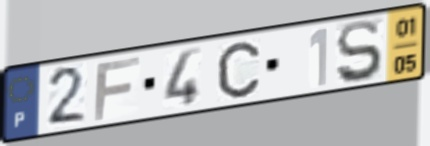1: (308, 26, 330, 88)
2: (44, 64, 90, 132)
4: (161, 46, 204, 109)
C: (215, 39, 263, 100)
F: (91, 54, 143, 124)
S: (334, 18, 385, 86)
